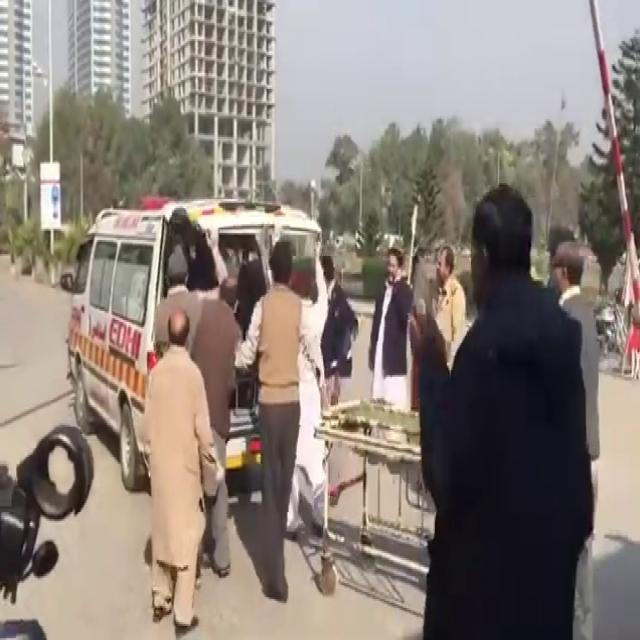ambulance: (64, 204, 231, 467)
